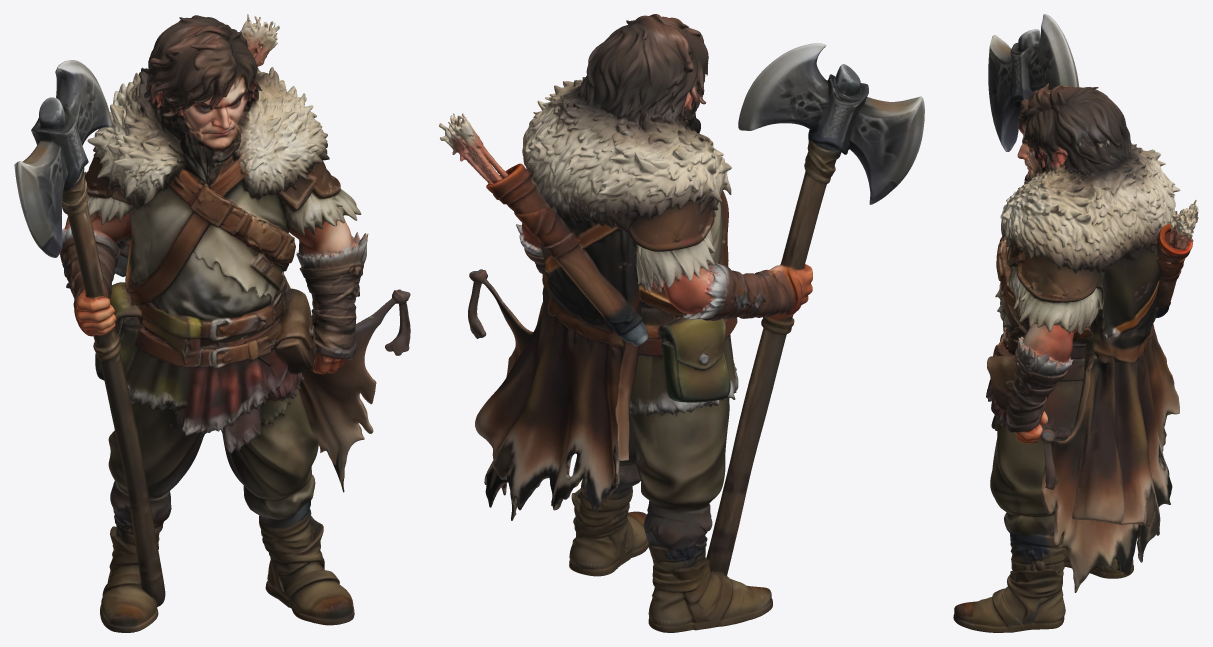
The model's file is halflingbarbarian.glb.
3 views of the same model, side by side, from view 1: azimuth 30°, elevation 25°; view 2: azimuth 150°, elevation 25°; view 3: azimuth 270°, elevation 25° (orthographic). The views are drawn at different scales.
Bounding box in the file's own units: 1.45 × 1.9 × 0.8264.
Materials: 1 (1 with a texture image).
